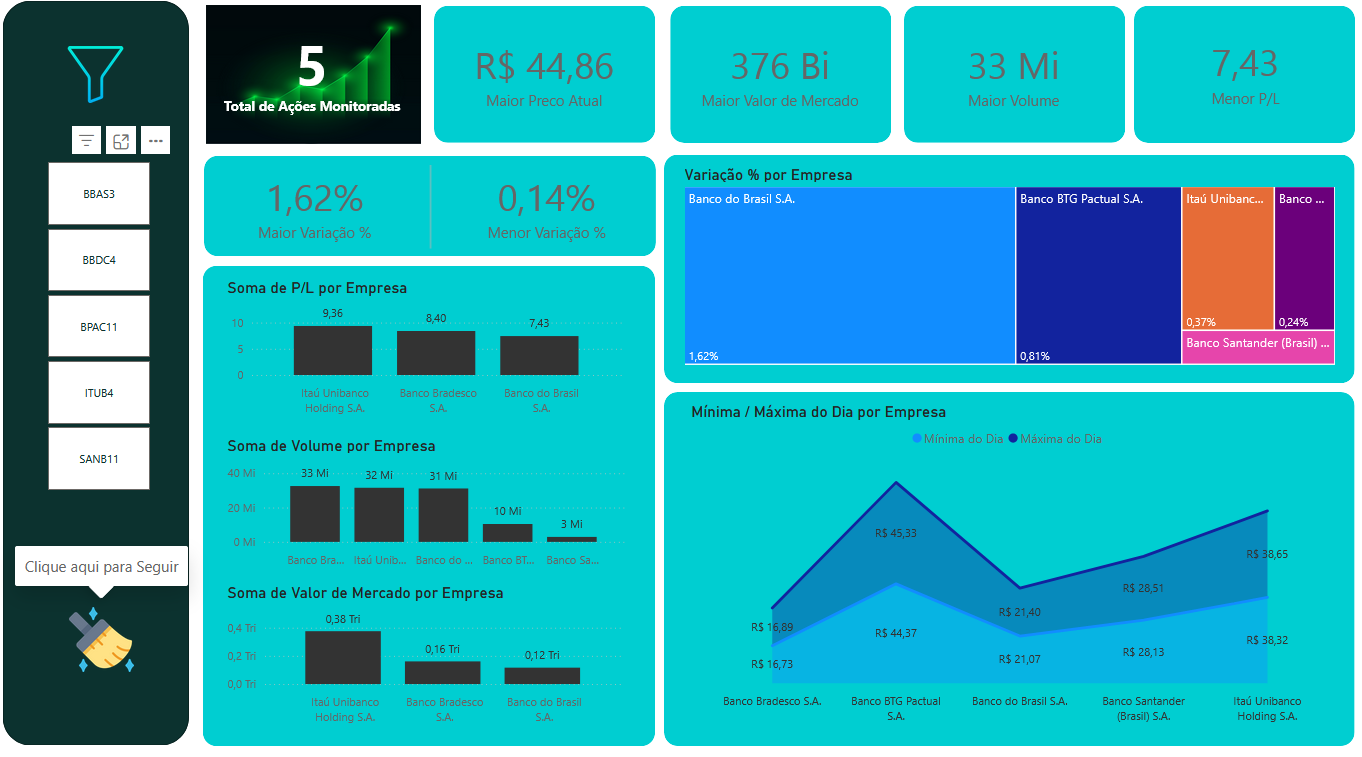

The dashboard page shown, as its layout file describes it:
{"tool":"powerbi","page":{"name":"Ações","canvas":[1500,840],"ordinal":0},"visuals":[{"type":"shape","box":[998.6,20.1,240.1,148.8],"z":0},{"type":"shape","box":[744.2,20.3,240,148.8],"z":1000},{"type":"shape","box":[1248.4,20.3,240,148.8],"z":2000},{"type":"shape","box":[488.9,20.1,240.1,148.8],"z":3000},{"type":"shape","box":[238.6,182.7,490.5,109.2],"z":4000},{"type":"image","box":[236.3,15.4,243.2,161],"z":5000},{"type":"card","fields":{"Values":["Medidas.Maior Preco Atual"]},"box":[504.8,38.3,207.9,113.6],"z":6000},{"type":"card","fields":{"Values":["Medidas.Maior Volume"]},"box":[1020.7,38.3,195.9,113.6],"z":7000},{"type":"card","fields":{"Values":["Medidas.Maior Valor de Mercado"]},"box":[757.5,38.3,215.3,113.6],"z":8000},{"type":"card","fields":{"Values":["Medidas.Menor P/L"]},"box":[1265.9,38.3,207.9,109.2],"z":9000},{"type":"card","fields":{"Values":["Medidas.Maior Variação %"]},"box":[259.3,192,200.4,91.2],"z":10000},{"type":"card","fields":{"Values":["Medidas.Menor Variação %"]},"box":[515,192,191.4,91.2],"z":11000},{"type":"card","fields":{"Values":["Medidas.Total de Ações Monitoradas"]},"box":[250,37.7,214,106.2],"z":12000},{"type":"shape","box":[452.1,192,65.8,91.2],"z":13000},{"type":"shape","box":[236.8,302,491,521.6],"z":14000},{"type":"shape","box":[738,182.2,749.6,248.4],"z":15000},{"type":"shape","box":[738,439.4,749.6,384.3],"z":16000},{"type":"clusteredColumnChart","fields":{"Category":["dados_tratados.Empresa"],"Y":["Sum(dados_tratados.P/L)"]},"box":[258.8,316.6,441.3,156.3],"z":17000},{"type":"columnChart","fields":{"Category":["dados_tratados.Empresa"],"Y":["Sum(dados_tratados.Volume)"]},"box":[258.8,487.6,441.3,150.5],"z":18000},{"type":"columnChart","fields":{"Category":["dados_tratados.Empresa"],"Y":["Sum(dados_tratados.Valor de Mercado)"]},"box":[258.8,646.8,441.3,160.7],"z":19000},{"type":"treemap","title":"Variação % por Empresa","fields":{"Group":["dados_tratados.Empresa"],"Values":["Sum(dados_tratados.Variação %)"]},"box":[755.6,192.4,716,222.1],"z":20000},{"type":"stackedAreaChart","title":"Mínima / Máxima do Dia por Empresa","fields":{"Category":["dados_tratados.Empresa"],"Y":["Sum(dados_tratados.Mínima do Dia)","Sum(dados_tratados.Máxima do Dia)"]},"box":[762.9,451,699.9,356.5],"z":21000},{"type":"shape","box":[20.5,15.4,202.1,808.2],"z":22000},{"type":"slicer","fields":{"Values":["dados_tratados.Ticker"]},"box":[42.8,183.2,161,369.9],"z":23000},{"type":"image","box":[85.6,667.8,83.9,80.5],"z":24000},{"type":"image","box":[85.6,58.2,71.9,73.6],"z":25000}]}

Visuals, with their boxes in screenshot pixels (x1, y1, x2, y2), scaled from the page's 1500x840 canvas onto the 1362x757 screenshot:
shape: l=907, t=18, r=1125, b=152
shape: l=676, t=18, r=894, b=152
shape: l=1134, t=18, r=1351, b=152
shape: l=444, t=18, r=662, b=152
shape: l=217, t=165, r=662, b=263
image: l=215, t=14, r=435, b=159
card - Medidas.Maior Preco Atual: l=458, t=35, r=647, b=137
card - Medidas.Maior Volume: l=927, t=35, r=1105, b=137
card - Medidas.Maior Valor de Mercado: l=688, t=35, r=883, b=137
card - Medidas.Menor P/L: l=1149, t=35, r=1338, b=133
card - Medidas.Maior Variação %: l=235, t=173, r=417, b=255
card - Medidas.Menor Variação %: l=468, t=173, r=641, b=255
card - Medidas.Total de Ações Monitoradas: l=227, t=34, r=421, b=130
shape: l=411, t=173, r=470, b=255
shape: l=215, t=272, r=661, b=742
shape: l=670, t=164, r=1351, b=388
shape: l=670, t=396, r=1351, b=742
clusteredColumnChart - dados_tratados.Empresa x Sum(dados_tratados.P/L): l=235, t=285, r=636, b=426
columnChart - dados_tratados.Empresa x Sum(dados_tratados.Volume): l=235, t=439, r=636, b=575
columnChart - dados_tratados.Empresa x Sum(dados_tratados.Valor de Mercado): l=235, t=583, r=636, b=728
"Variação % por Empresa" treemap: l=686, t=173, r=1336, b=374
"Mínima / Máxima do Dia por Empresa" stackedAreaChart: l=693, t=406, r=1328, b=728
shape: l=19, t=14, r=202, b=742
slicer - dados_tratados.Ticker: l=39, t=165, r=185, b=498
image: l=78, t=602, r=154, b=674
image: l=78, t=52, r=143, b=119
